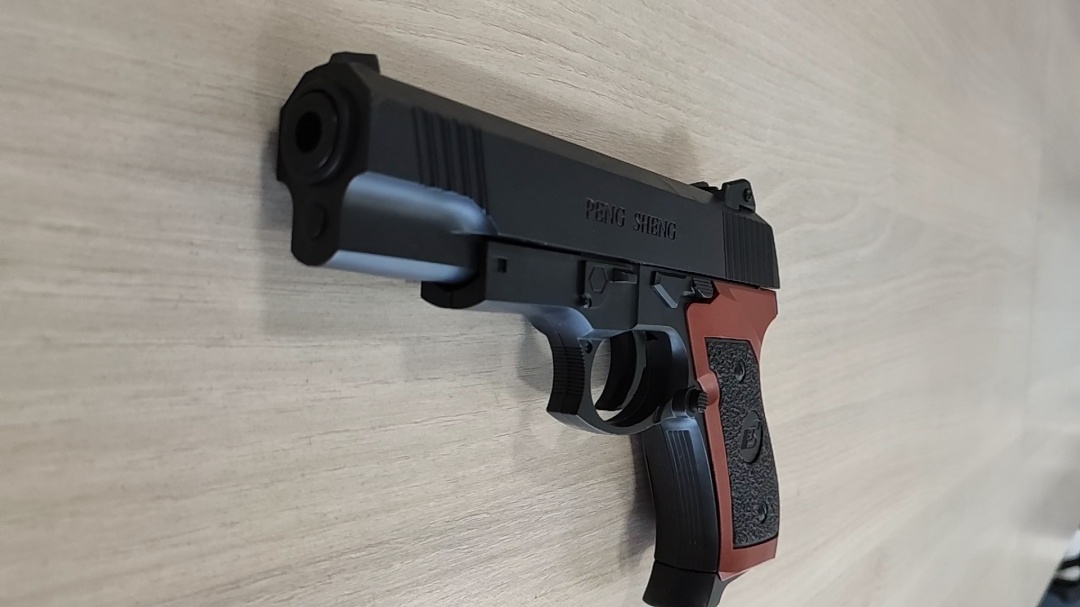gunw: (274, 50, 786, 607)
